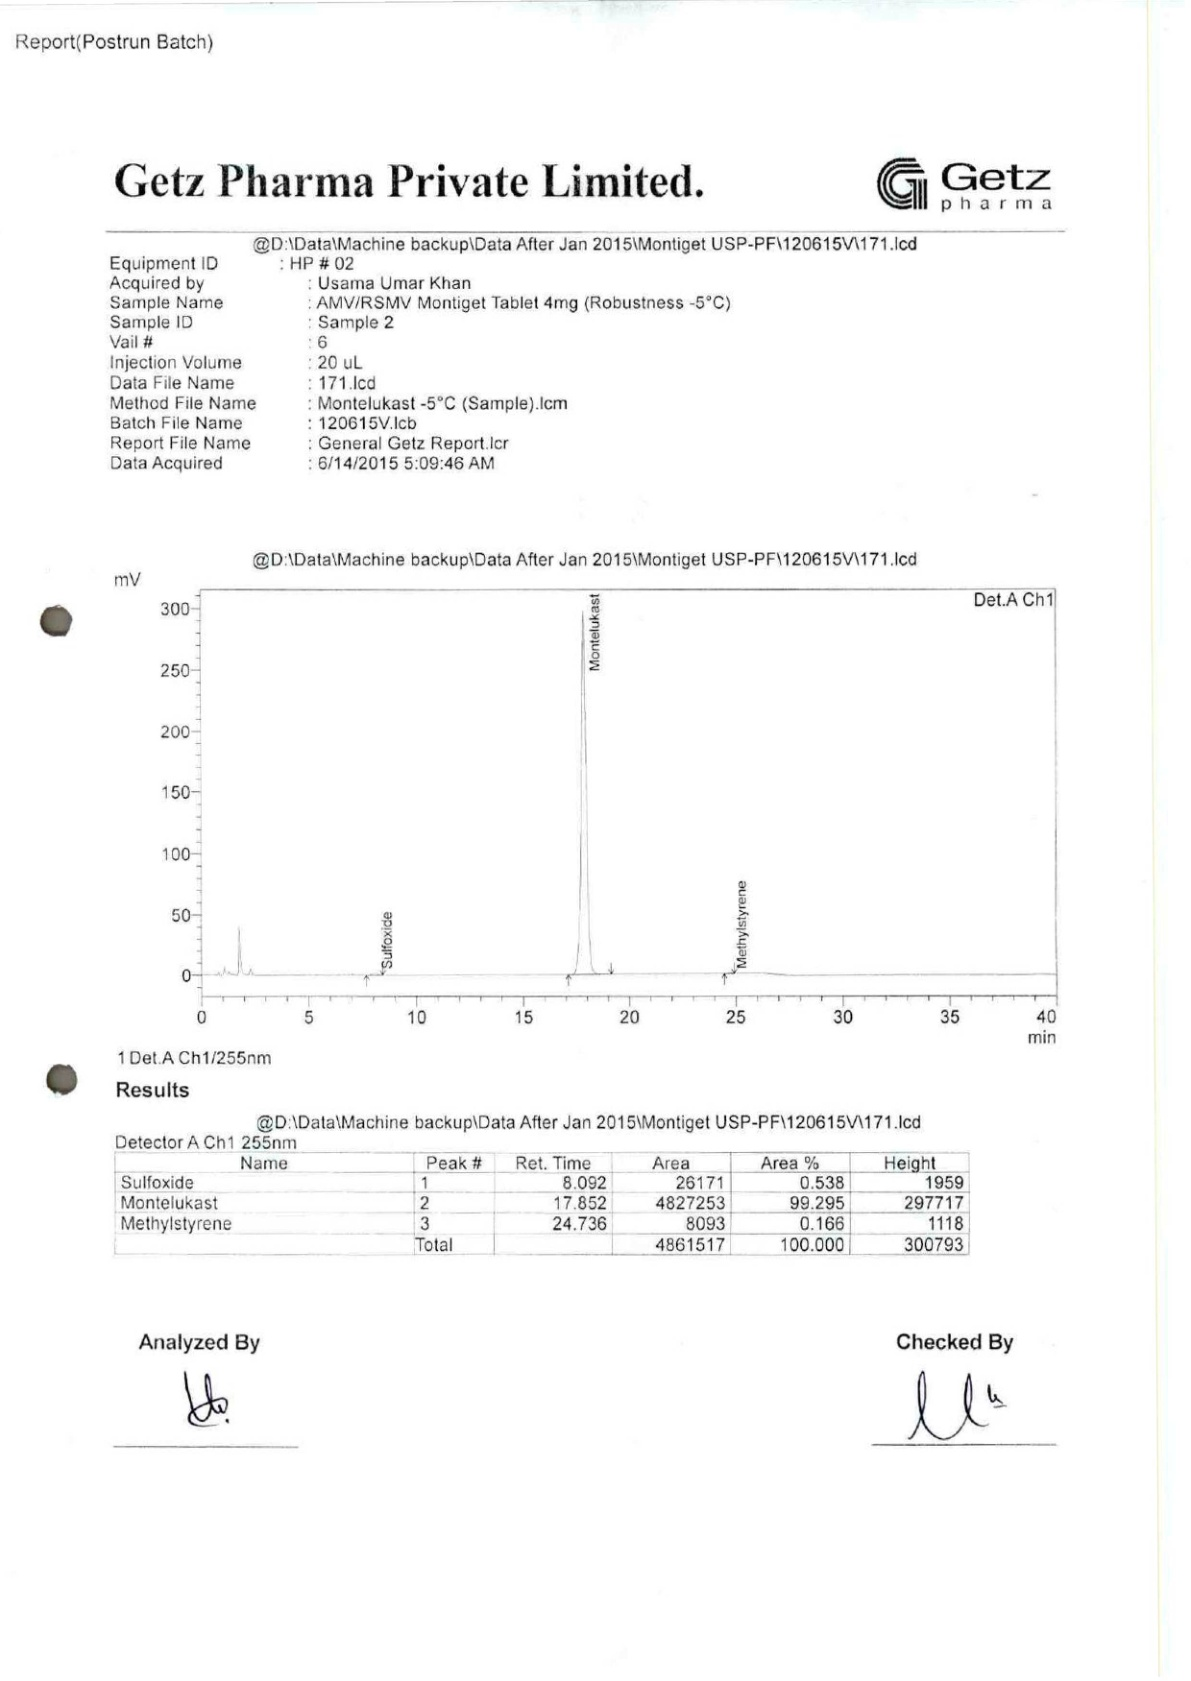full_lined: (113, 1151, 971, 1256)
nolines: (106, 251, 733, 473)
